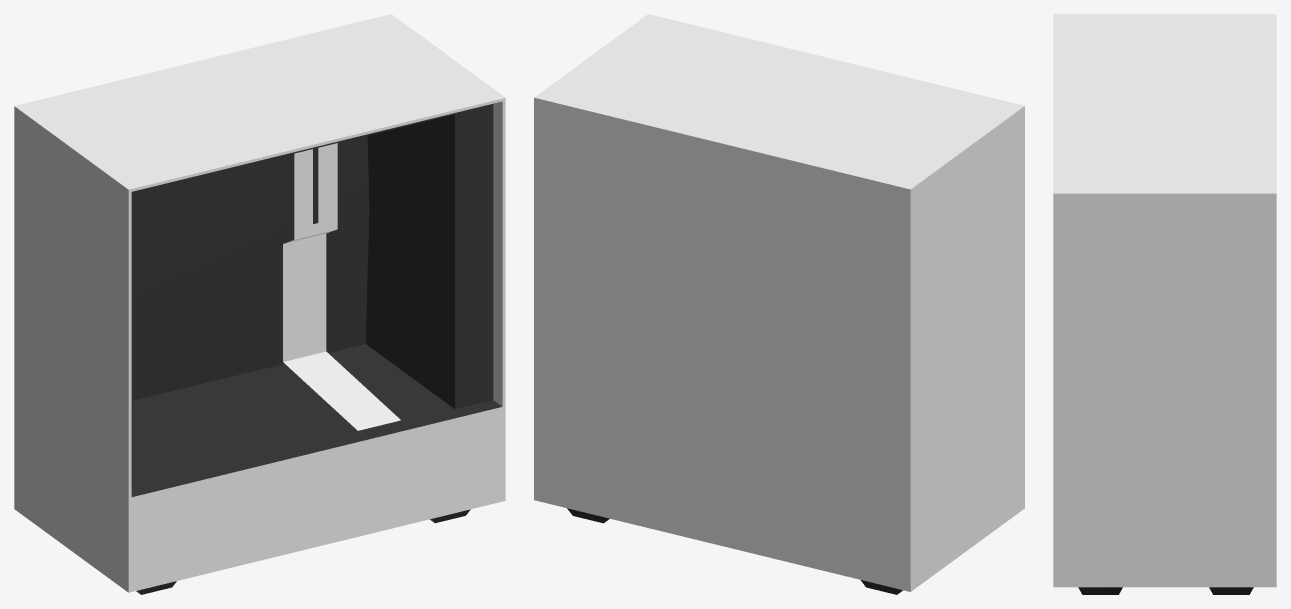
File: case.glb
The picture shows the model from 3 angles, left to right: view 1: azimuth 30°, elevation 25°; view 2: azimuth 150°, elevation 25°; view 3: azimuth 270°, elevation 25°; orthographic projection. The views are drawn at different scales.
Parts seen in each view (by area): view 1: caseObject; view 2: caseObject; view 3: caseObject.
Part boxes in pixels (x1,y1,x2,y2): caseObject: (14, 14, 505, 594); caseObject: (534, 14, 1024, 594); caseObject: (1053, 14, 1276, 594).
Bounding box in the file's own units: 8.7 × 9.32 × 4.57.
Materials: 1 (1 with a texture image).
